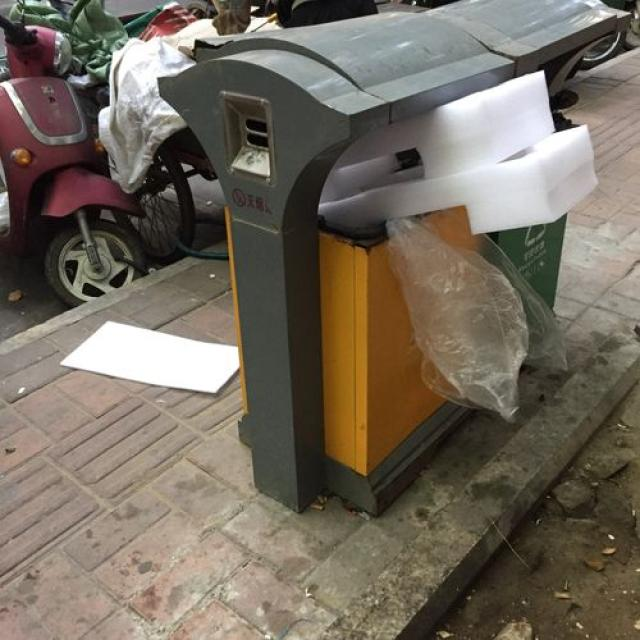overflow: (156, 0, 629, 515)
